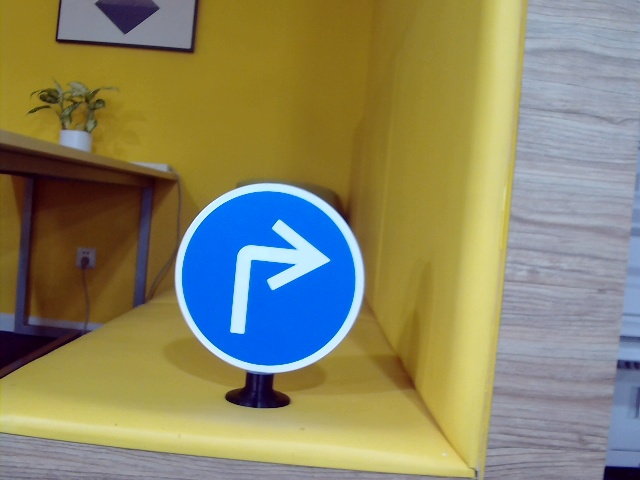turn_right: (228, 220, 327, 346)
